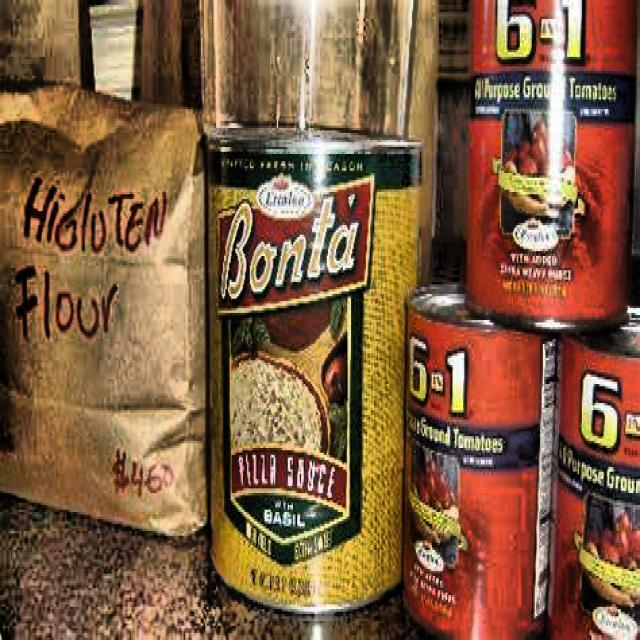Cans: (199, 88, 413, 619), (441, 0, 640, 374), (381, 238, 566, 640), (540, 237, 640, 640)
